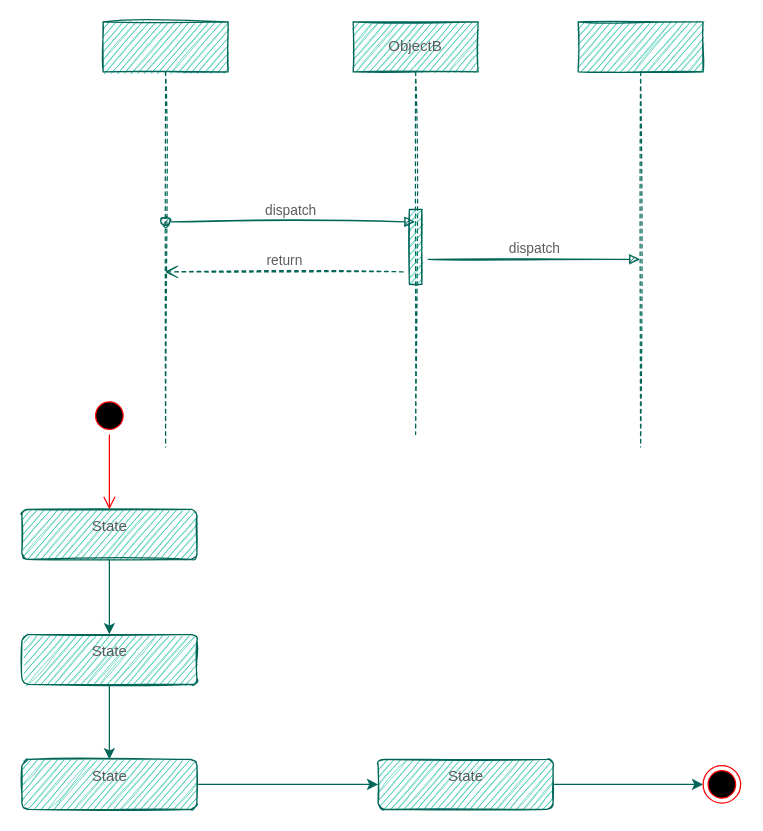
Some shapes in this 763 by 831 pixel diagram are drawn without their labels. The box of each missing label's shape, as (x1, y1, x2, y2) in pixels:
ObjectA: (102, 21, 228, 447)
ObjectC: (577, 21, 703, 447)
